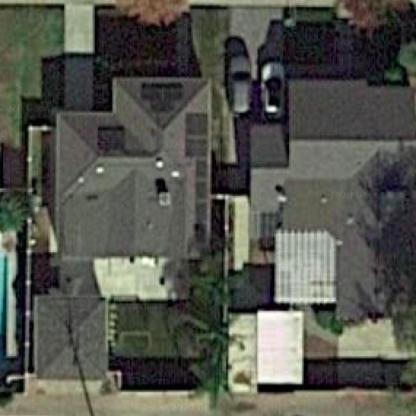car: (220, 46, 253, 115), (260, 59, 288, 118)
solar_panel: (183, 106, 211, 244), (134, 80, 192, 112), (95, 124, 141, 159)
